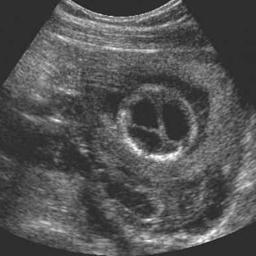abnormal: (117, 81, 199, 164)
